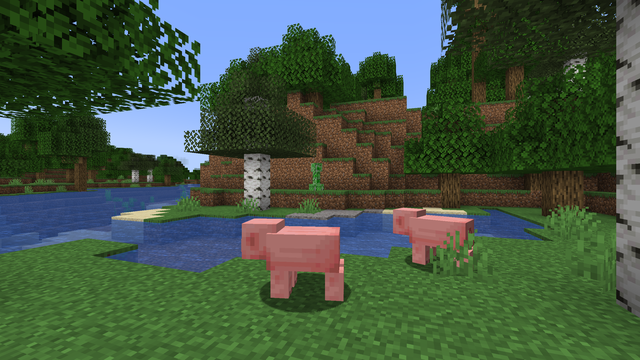cochons: (262, 222, 342, 308), (416, 213, 472, 274)
creepers: (310, 161, 322, 189)
